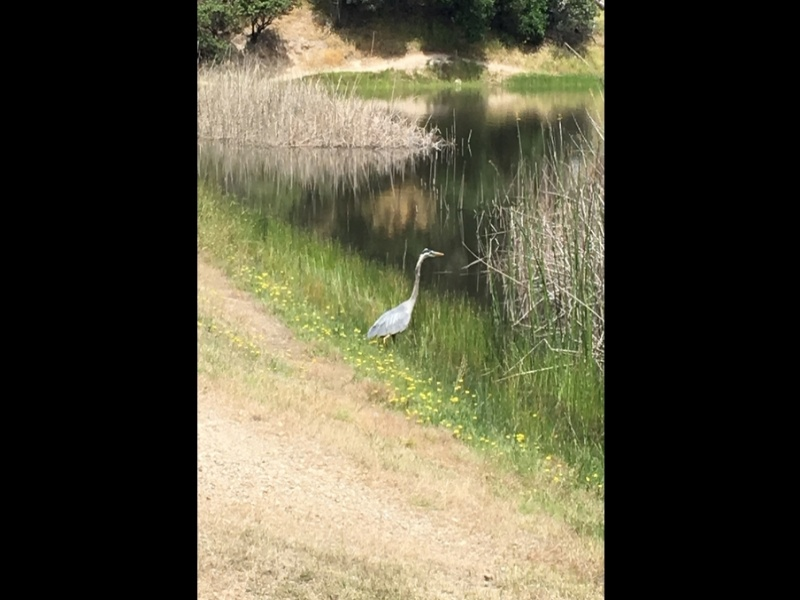heron: (367, 244, 445, 350)
